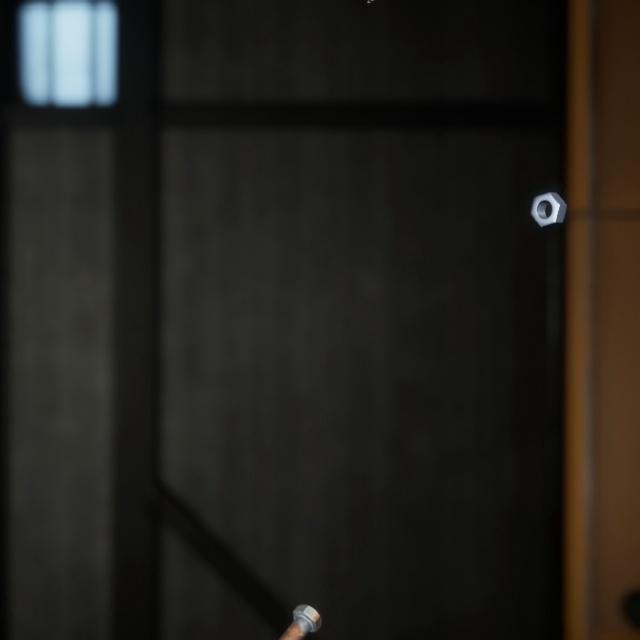bolt: (254, 575, 326, 640)
nut: (526, 172, 571, 216)
